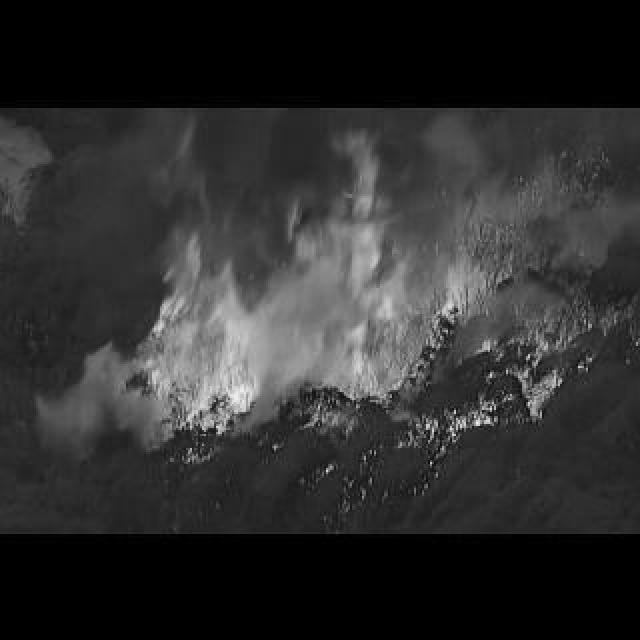Fire: (132, 114, 636, 484)
